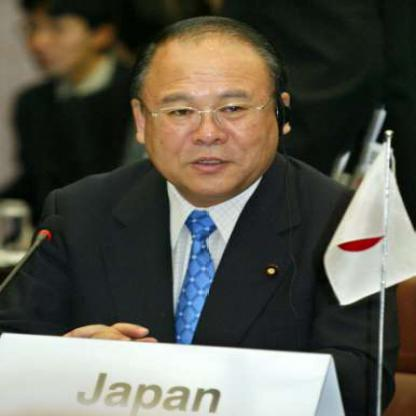face: (141, 24, 282, 198), (21, 1, 96, 79)
